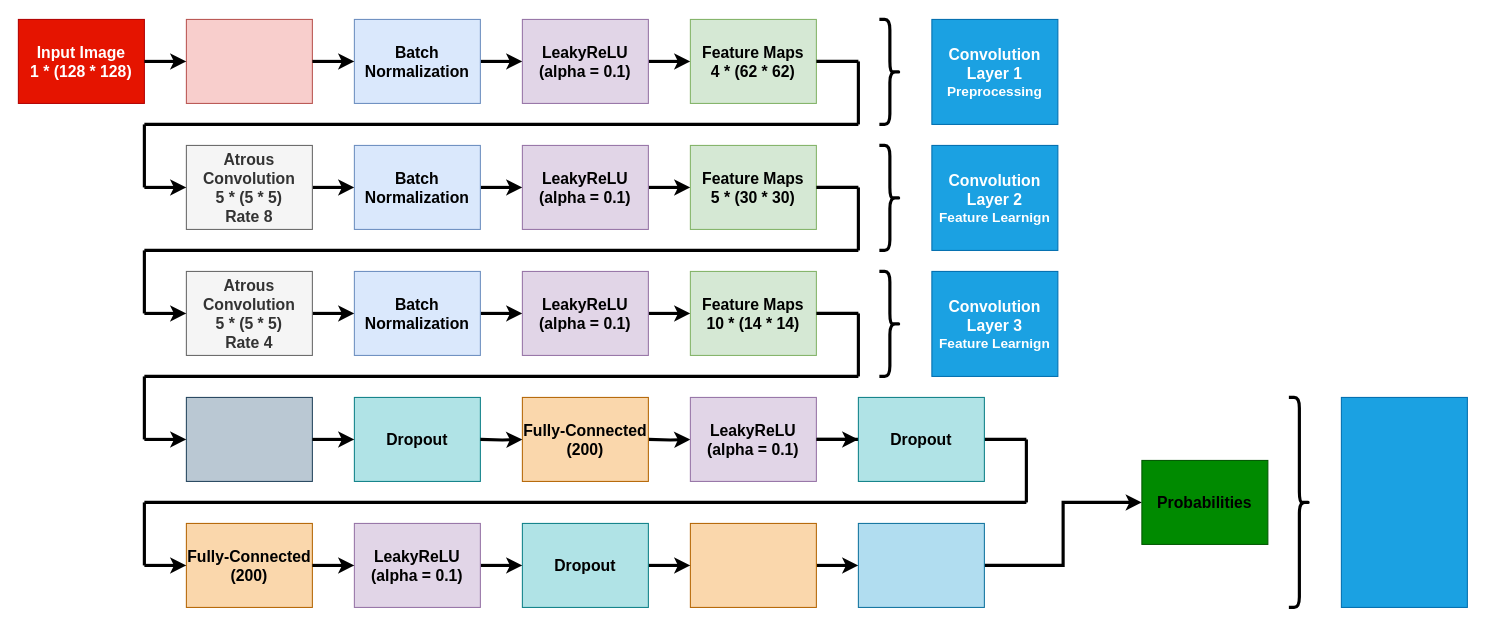
The diagram is 1486 pixels wide and 627 high, and some of its shapes have lost their labels. Each missing label, with the centre of its shape:
"Convolution 4 * (5 * 5) Stride 2" goes at point 248,60.
"Flatten Features 1 * (10 * 14 * 14)" goes at point 248,438.
"Fully Connected Layers Binary Classification" goes at point 1403,501.
"Fully-Connected (2)" goes at point 752,564.
"Softmax" goes at point 920,564.
